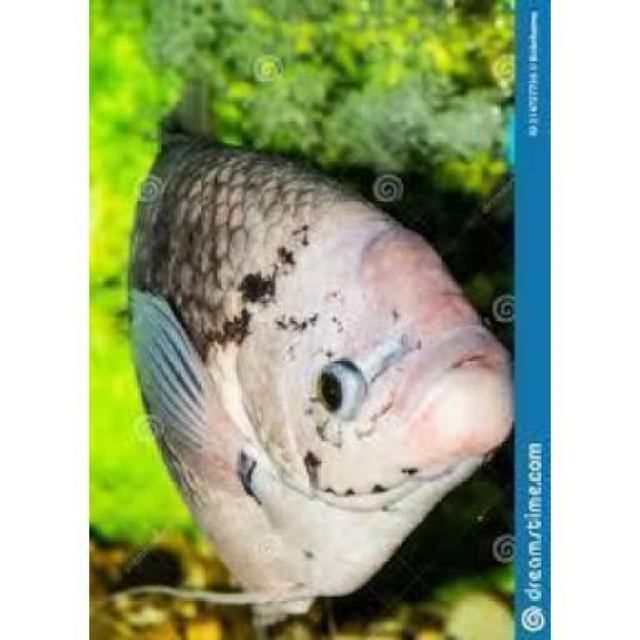gurame: (124, 113, 513, 604)
